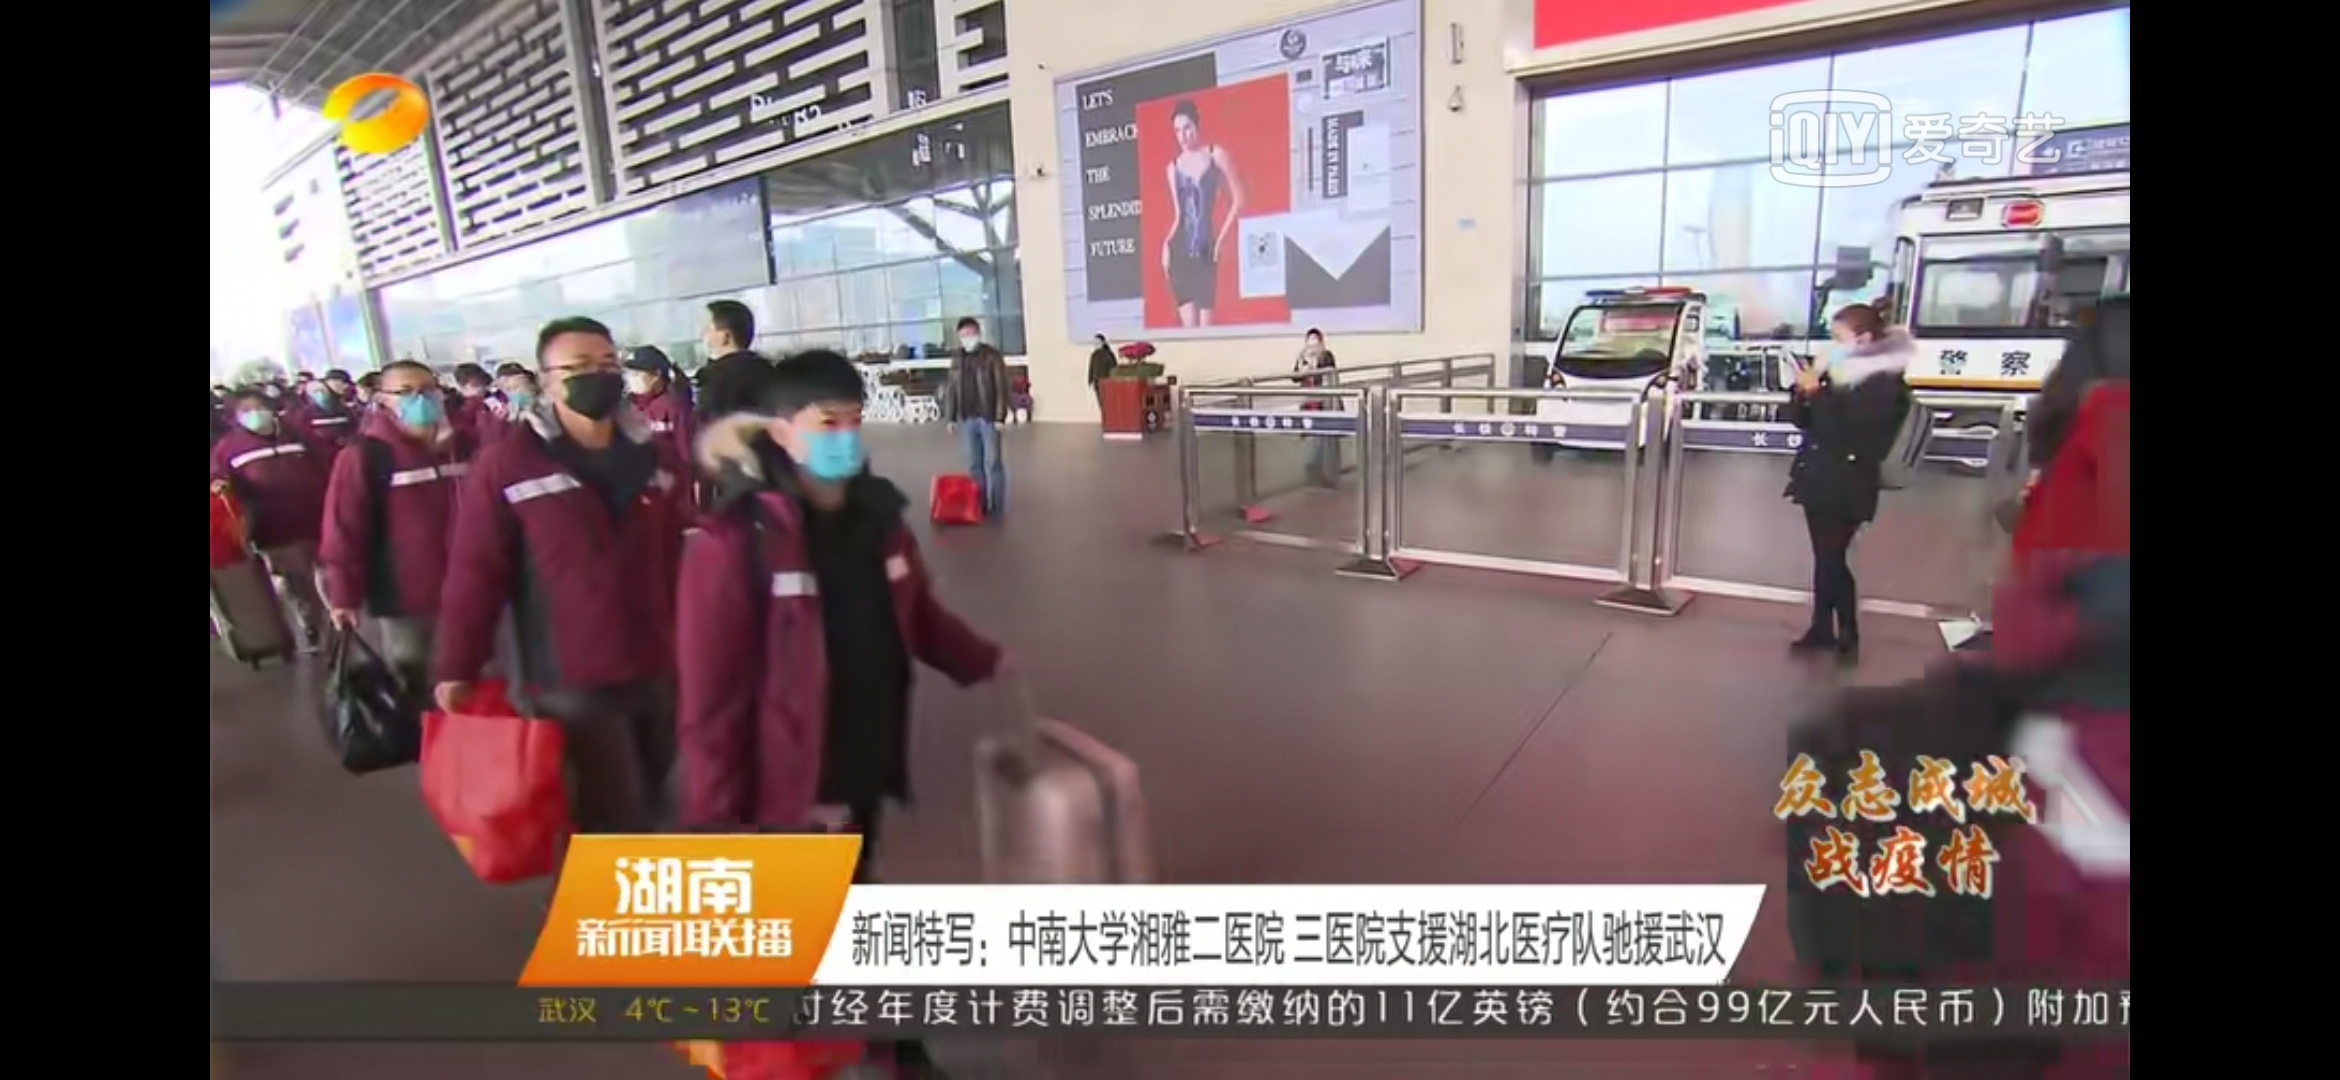correctlyWear: (776, 401, 872, 486), (540, 348, 628, 425), (381, 377, 446, 434), (236, 398, 278, 439), (1827, 330, 1864, 364), (960, 328, 980, 354)
